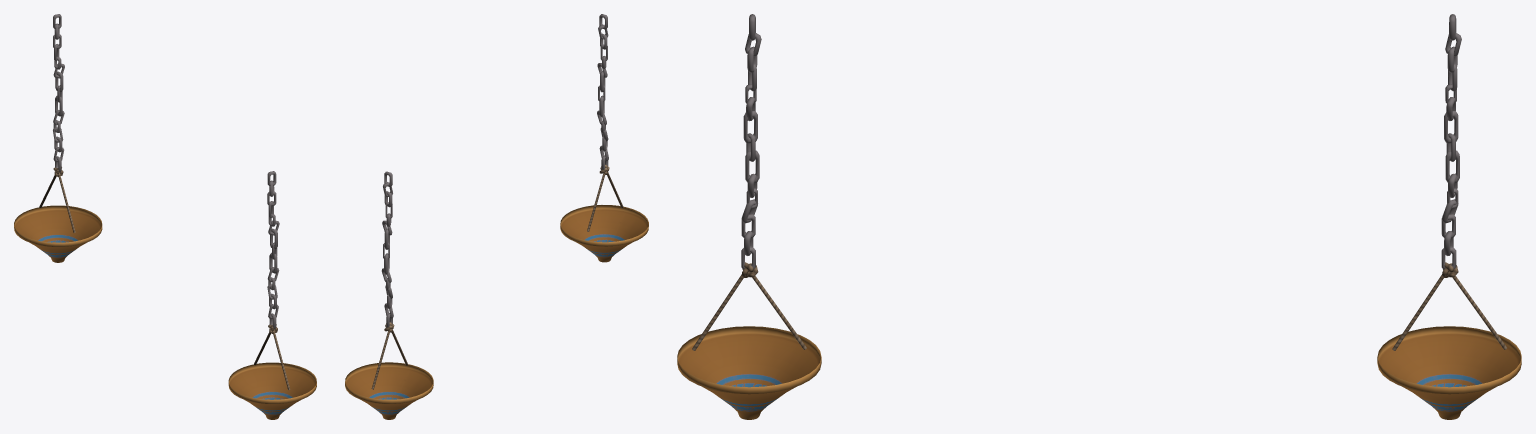
The model's file is Lamparas_V3.fbx.
3 views of the same model, side by side, from view 1: azimuth 30°, elevation 25°; view 2: azimuth 150°, elevation 25°; view 3: azimuth 270°, elevation 25° (orthographic). The views are drawn at different scales.
Parts seen in each view (by area): view 1: Lamparas; view 2: Lamparas; view 3: Lamparas.
Boxes of the visible parts, box(x1,y1,x2,y2) form: Lamparas: box(14, 14, 316, 419); Lamparas: box(345, 14, 648, 419); Lamparas: box(677, 14, 1521, 419).
Bounding box in the file's own units: 203 × 621 × 1189.
1 material, 1 textured.
